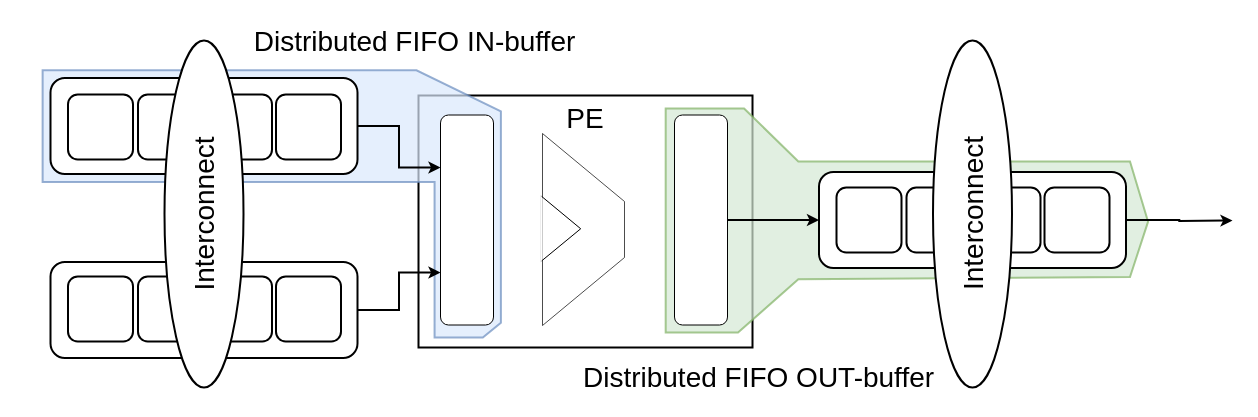
This 1258x417 diagram has some shape labels left out. Each missing label, with the centre of its shape:
De-Serializer: point 467,219
Serializer: point 701,219
